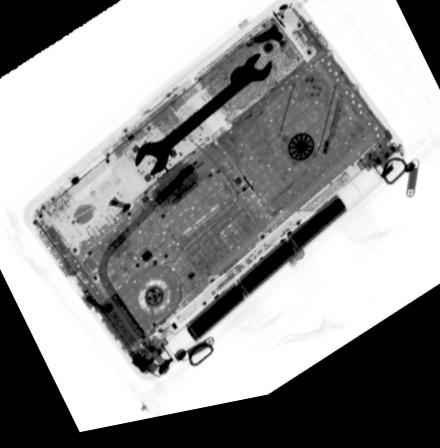Wrench: (134, 62, 272, 184)
